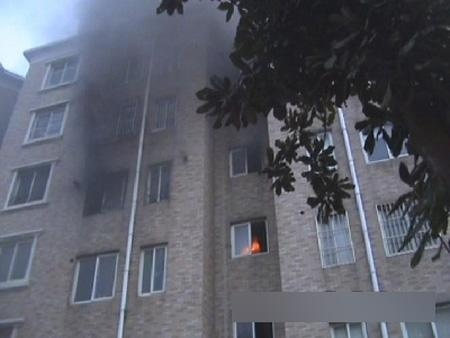fire: (240, 236, 263, 253)
